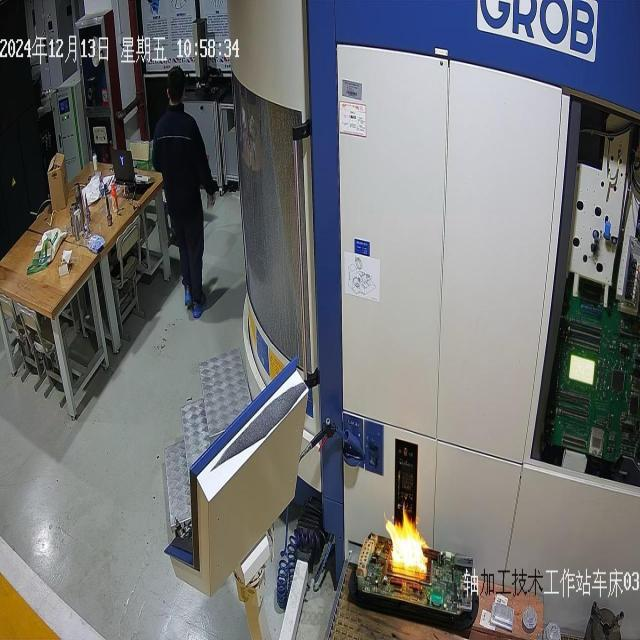smoke: (385, 502, 430, 584)
